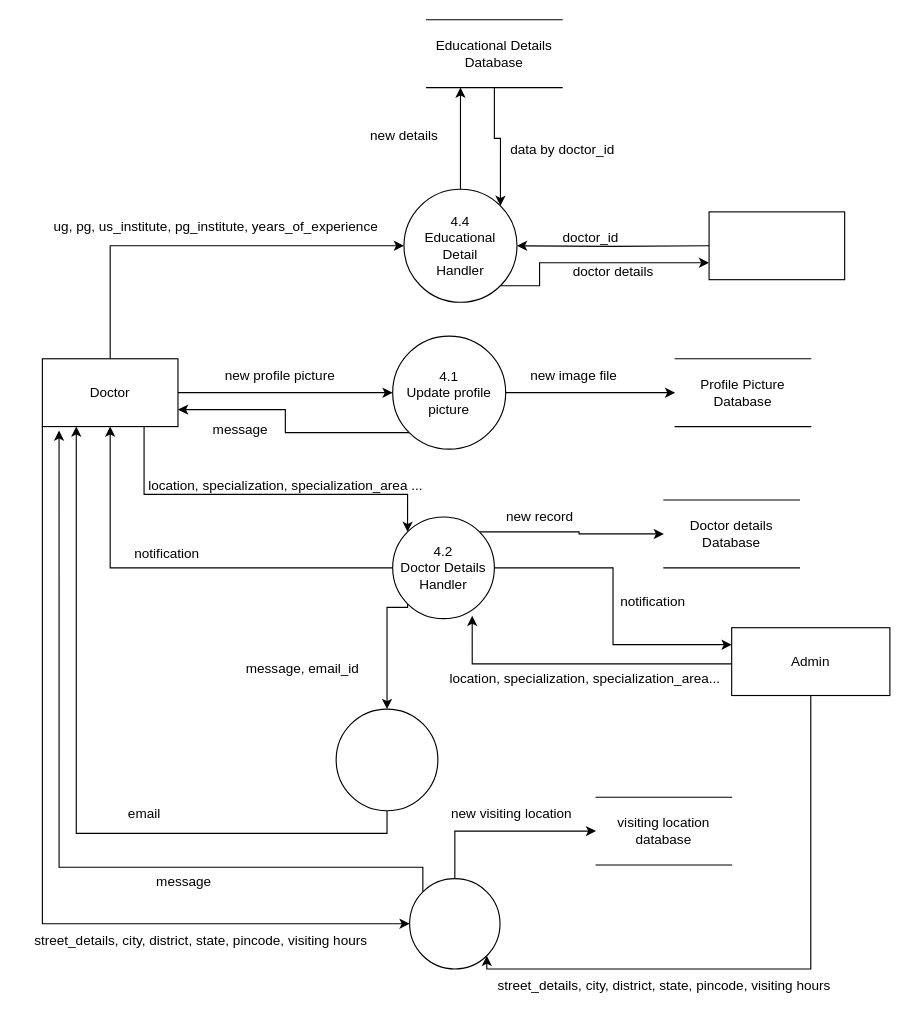
The diagram is 910 pixels wide and 1023 high, and some of its shapes have lost their labels. The centre of each missing label's shape, as x and y in pixels:
4.3 send email: point (386, 759)
4.5 Visiting Location Handler: point (454, 923)
patient: point (776, 245)
